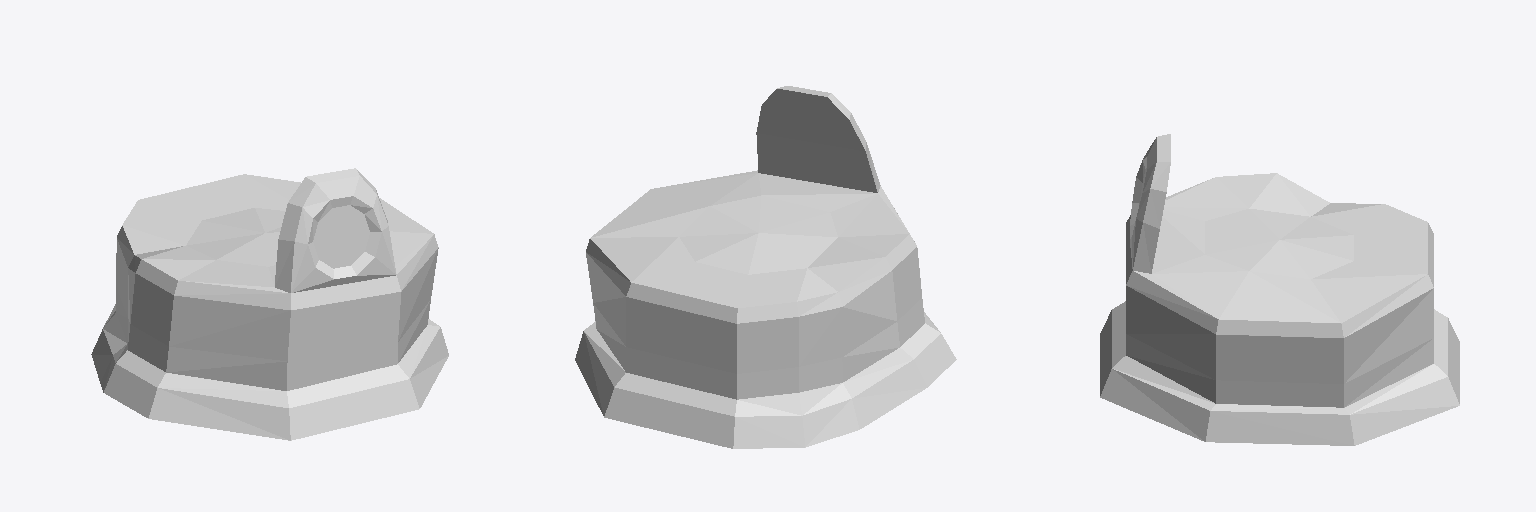
Rendered from stg600_obj_tankA_bp1.obj.
3 renders of one model, left to right at view 1: azimuth 30°, elevation 25°; view 2: azimuth 150°, elevation 25°; view 3: azimuth 270°, elevation 25°, orthographic.
Parts seen in each view (by area): view 1: polygon0, polygon2, polygon3, polygon1; view 2: polygon0, polygon3, polygon2; view 3: polygon0, polygon3, polygon2.
Part boxes in pixels (x1,y1,x2,y2): polygon0: (91, 168, 448, 440); polygon2: (116, 287, 430, 390); polygon3: (186, 208, 285, 266); polygon1: (313, 205, 369, 268); polygon0: (575, 86, 956, 448); polygon3: (679, 195, 837, 274); polygon2: (593, 298, 924, 399); polygon0: (1100, 134, 1459, 445); polygon3: (1205, 209, 1353, 278); polygon2: (1126, 334, 1433, 407).
Bounding box in the file's own units: 17.49 × 12.88 × 17.48.